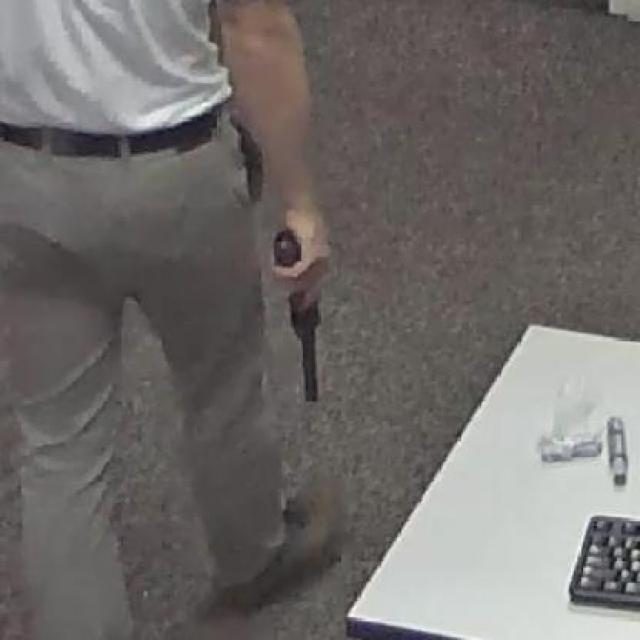gun: (268, 228, 330, 409)
